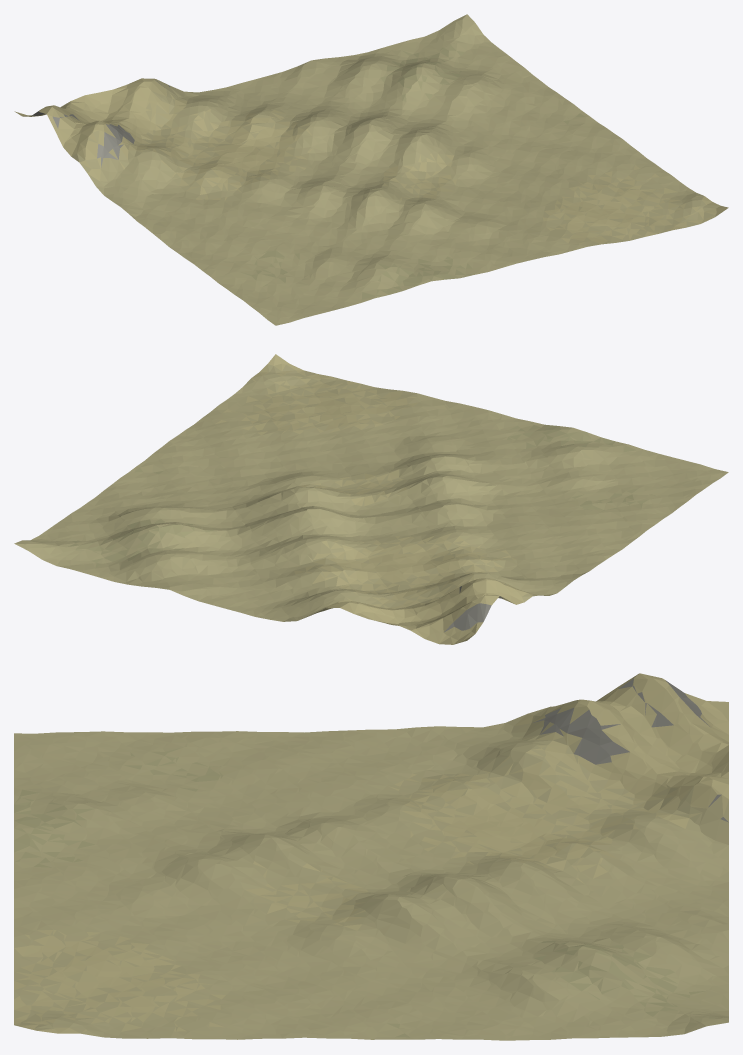
File: Ground_1_0.glb
3 renders of one model, top to bottom at view 1: azimuth 30°, elevation 25°; view 2: azimuth 150°, elevation 25°; view 3: azimuth 270°, elevation 25°, orthographic. The views are drawn at different scales.
Visible parts, largest first — view 1: Ground_1_0; view 2: Ground_1_0; view 3: Ground_1_0.
Part boxes in pixels (x1,y1,x2,y2): Ground_1_0: (14,14,728,325); Ground_1_0: (14,354,728,644); Ground_1_0: (14,673,728,1040).
Size of the model in its own units: 768 by 81.46 by 768.
